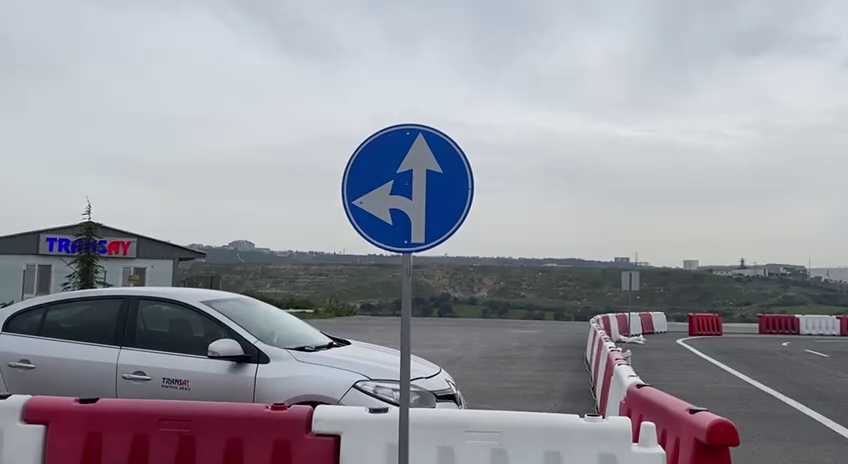forwardAndLeft: (337, 119, 477, 255)
